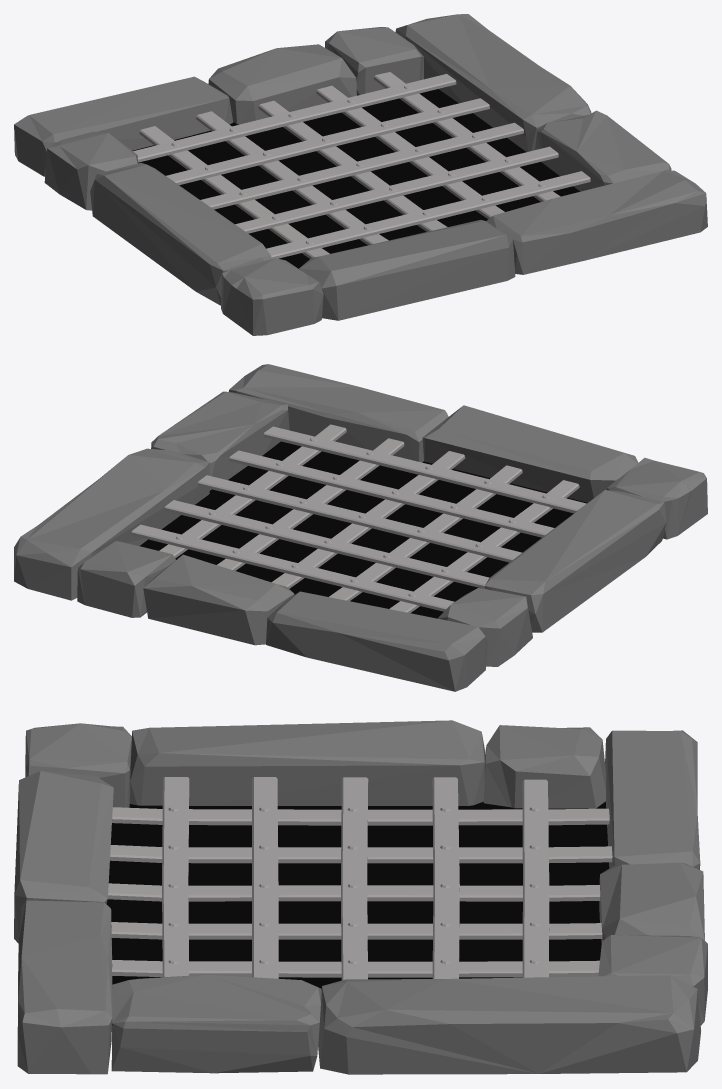
File: SMLSpikeStoneGrate.fbx
3 views of the same model, one above another, from view 1: azimuth 30°, elevation 25°; view 2: azimuth 150°, elevation 25°; view 3: azimuth 270°, elevation 25° (orthographic). The views are drawn at different scales.
Visible parts, largest first — view 1: SMLSpikeStoneGrate; view 2: SMLSpikeStoneGrate; view 3: SMLSpikeStoneGrate.
Part boxes in pixels (bbox=[...]): SMLSpikeStoneGrate: bbox=[14, 14, 707, 335]; SMLSpikeStoneGrate: bbox=[14, 364, 707, 691]; SMLSpikeStoneGrate: bbox=[14, 720, 707, 1074].
Bounding box in the file's own units: 117 × 11.07 × 114.
